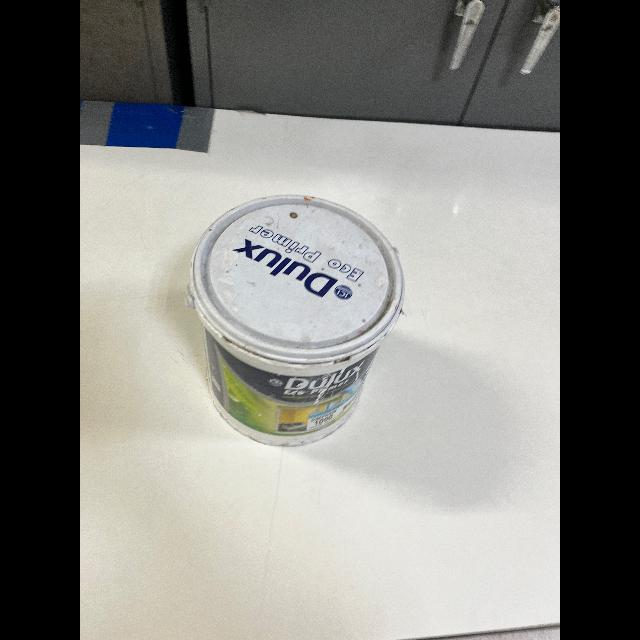paint_bucket: (184, 175, 410, 458)
